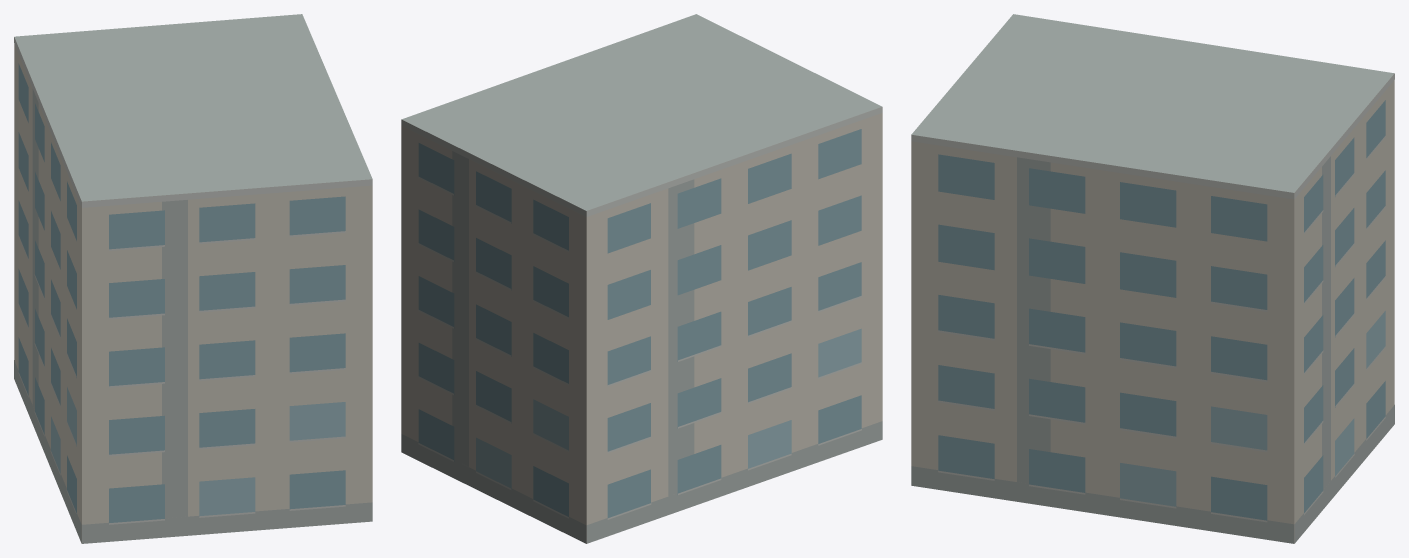
The model's file is survey-upis-32888513.glb.
The picture shows the model from 3 angles, left to right: view 1: azimuth 30°, elevation 25°; view 2: azimuth 150°, elevation 25°; view 3: azimuth 270°, elevation 25°; orthographic projection. The views are drawn at different scales.
Visible parts, largest first — view 1: survey-upis-32888513.tmp; view 2: survey-upis-32888513.tmp; view 3: survey-upis-32888513.tmp.
Part boxes in pixels (x1,y1,x2,y2): survey-upis-32888513.tmp: (14, 14, 372, 543); survey-upis-32888513.tmp: (401, 14, 882, 543); survey-upis-32888513.tmp: (911, 14, 1394, 543).
Bounding box in the file's own units: 14.33 × 13.1 × 16.37.
